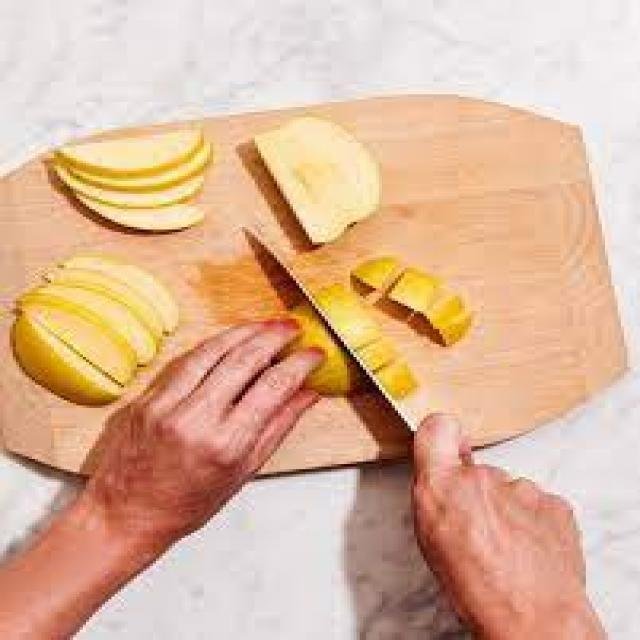Apple: (239, 111, 382, 247), (286, 279, 416, 394), (23, 296, 135, 384), (20, 319, 113, 407), (56, 139, 207, 173), (78, 180, 207, 208)
